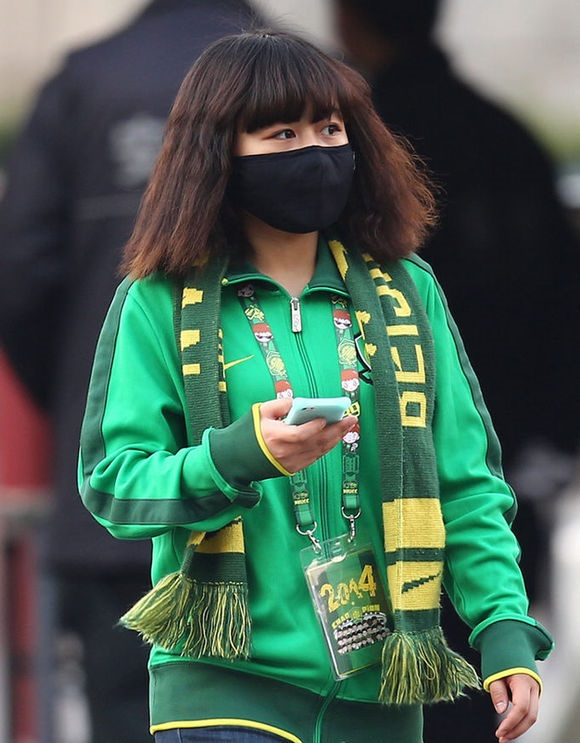face_mask: (236, 70, 349, 232)
